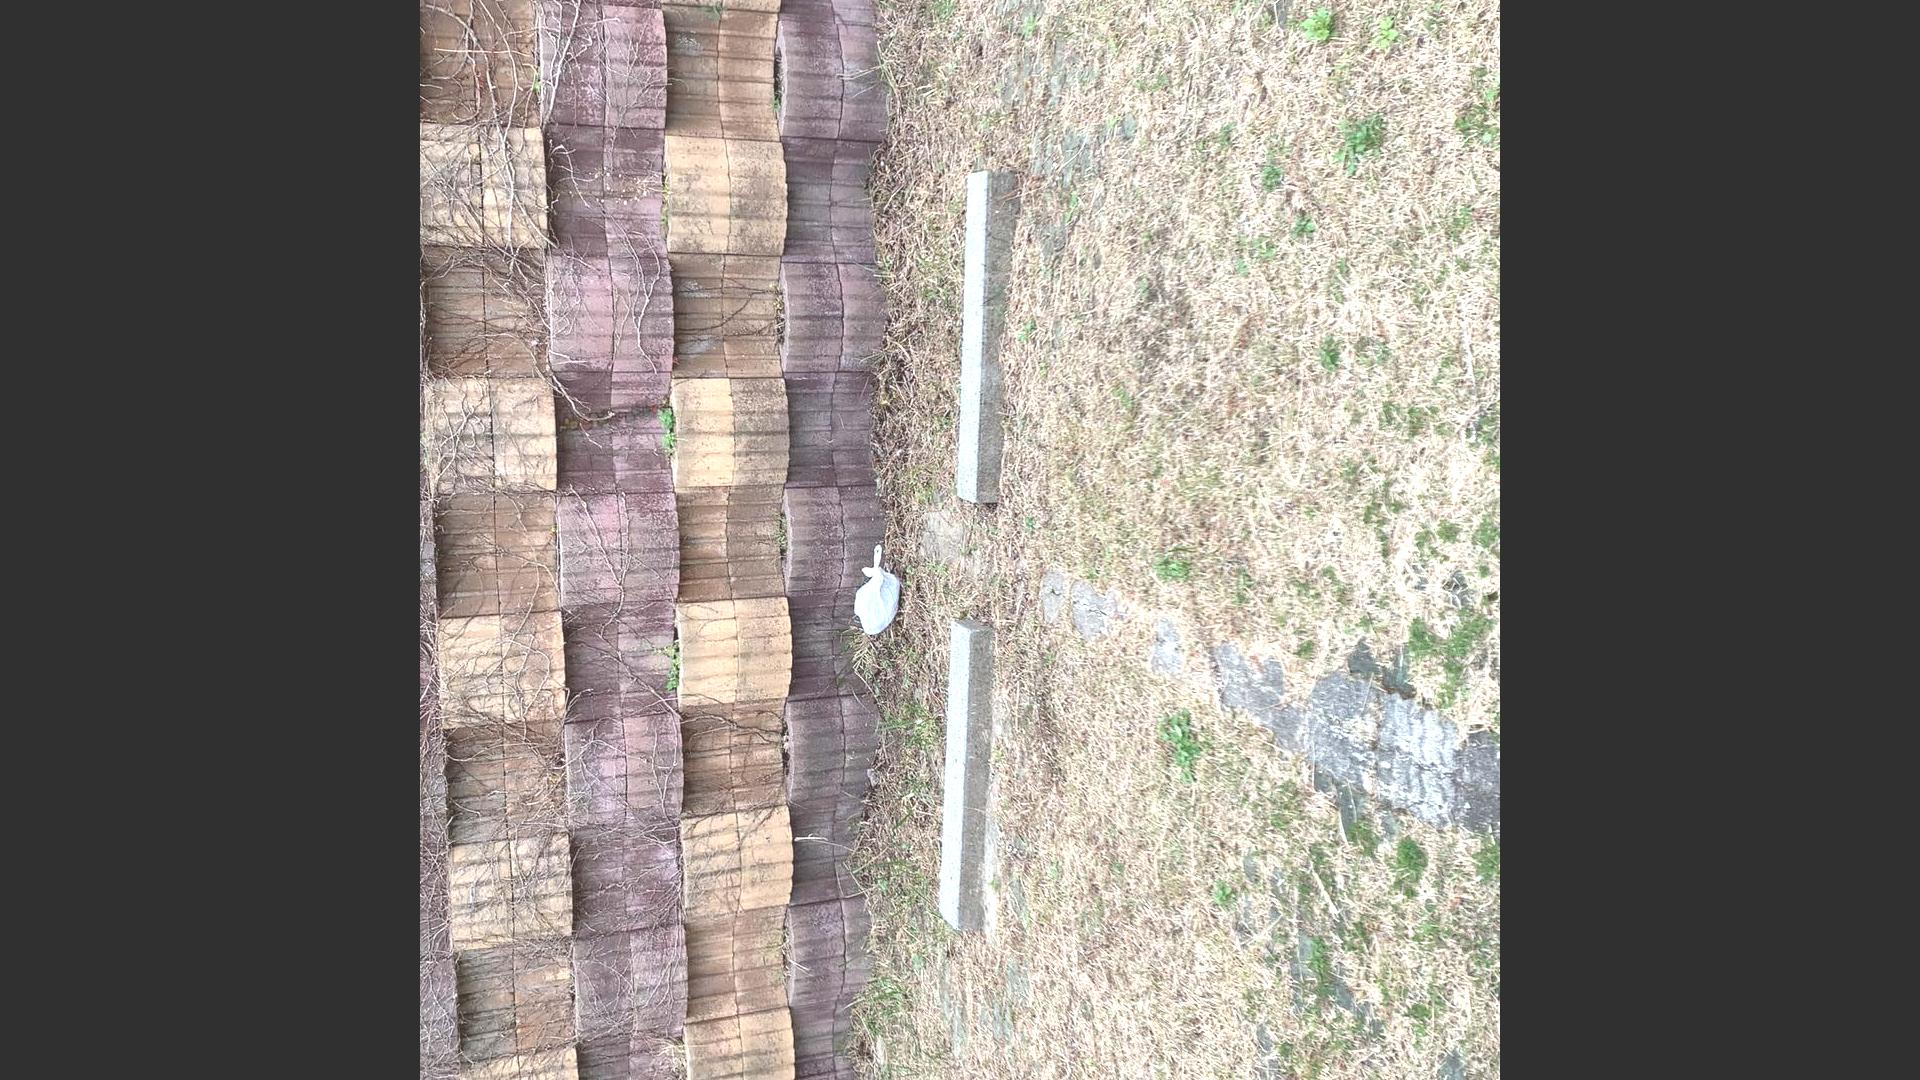white_bag: (847, 538, 905, 644)
